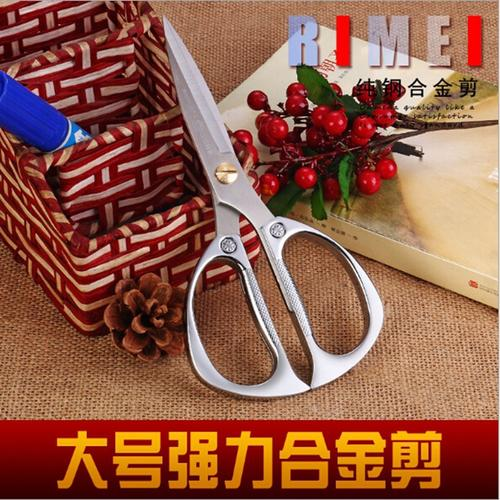scissor: (161, 15, 386, 402)
